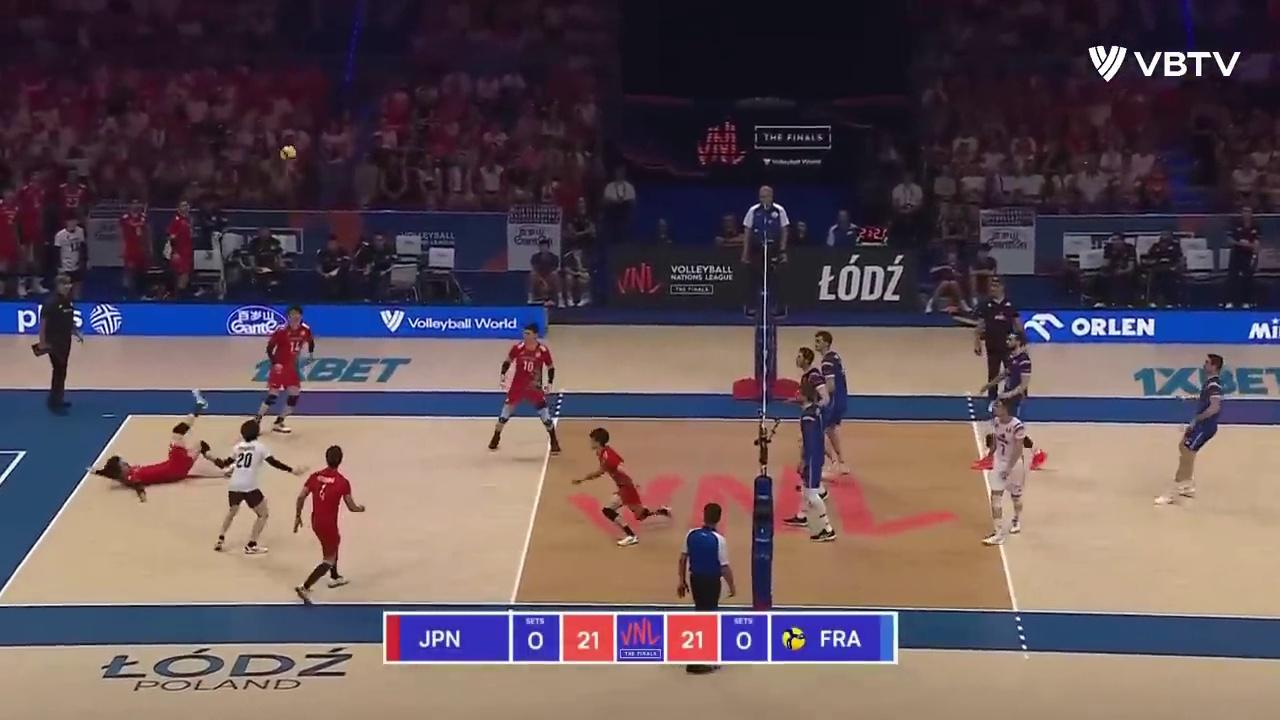ball: (280, 144, 296, 162)
